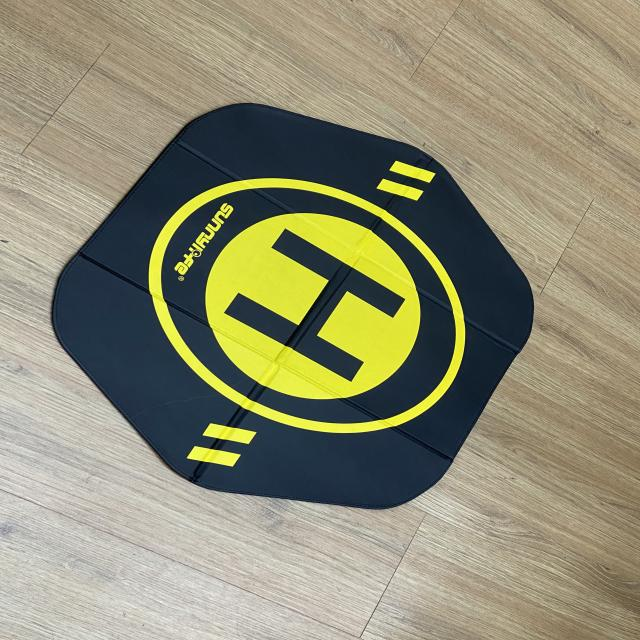helipad: (142, 172, 473, 436)
